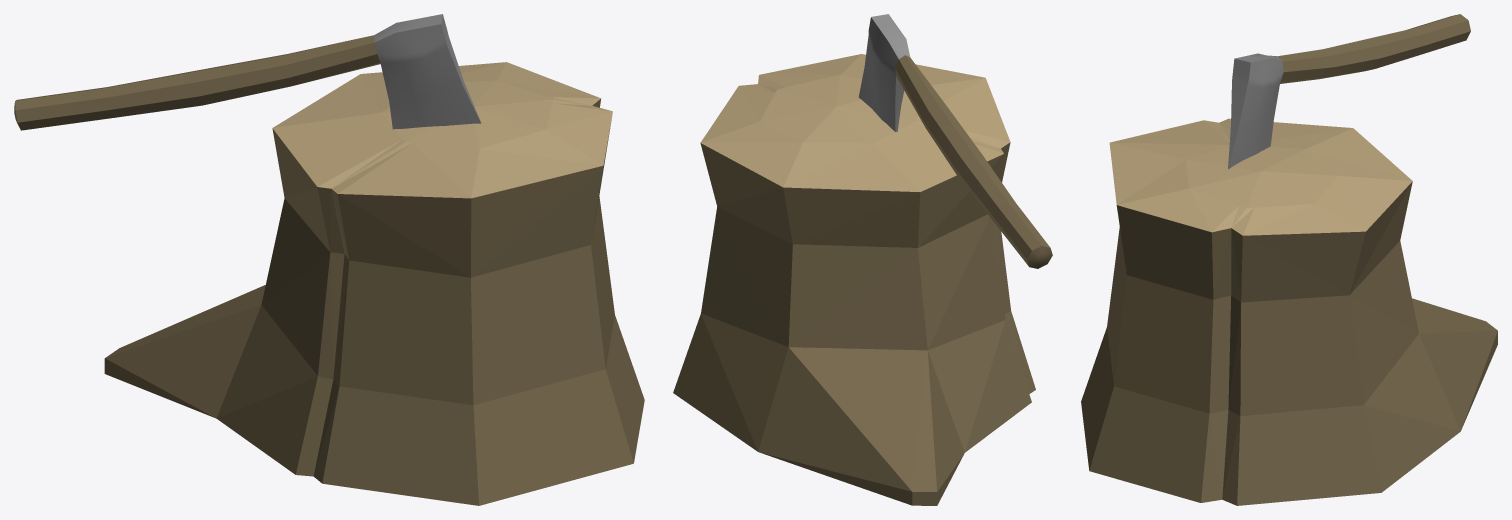
Rendered from Hut_lumberjack.fbx.
3 renders of one model, left to right at view 1: azimuth 30°, elevation 25°; view 2: azimuth 150°, elevation 25°; view 3: azimuth 270°, elevation 25°, orthographic. The views are drawn at different scales.
Parts seen in each view (by area): view 1: pCylinder3; view 2: pCylinder3; view 3: pCylinder3.
Part boxes in pixels (<box>): pCylinder3: <box>14,14,644,505</box>; pCylinder3: <box>673,14,1052,505</box>; pCylinder3: <box>1081,14,1497,505</box>.
Size of the model in its own units: 2.59 by 2.04 by 2.11.
